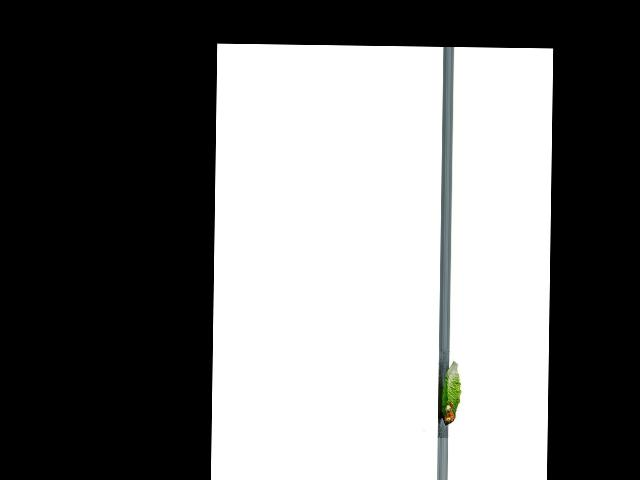lettuce: (437, 360, 463, 428)
